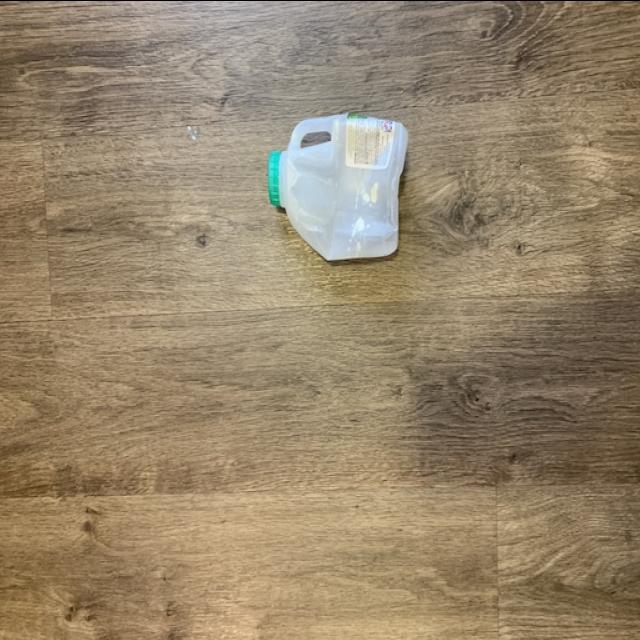litter: (264, 96, 412, 268)
